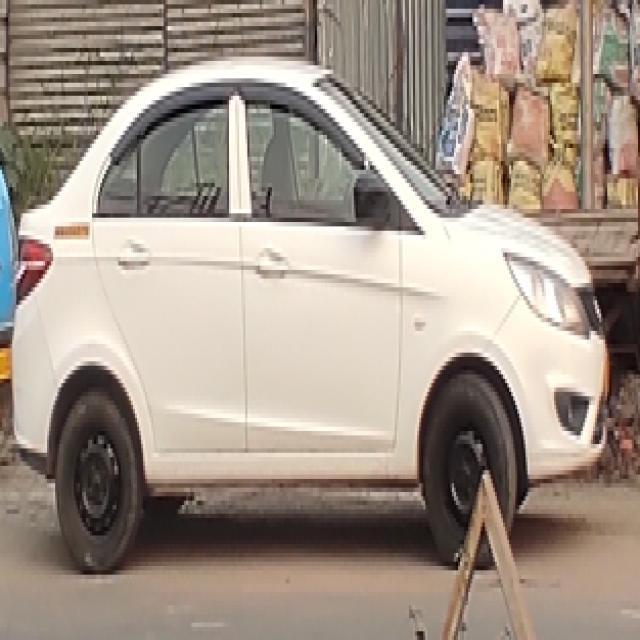car: (6, 48, 618, 570)
